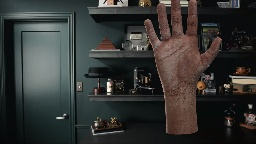Mano_aperta: (143, 0, 224, 95)
